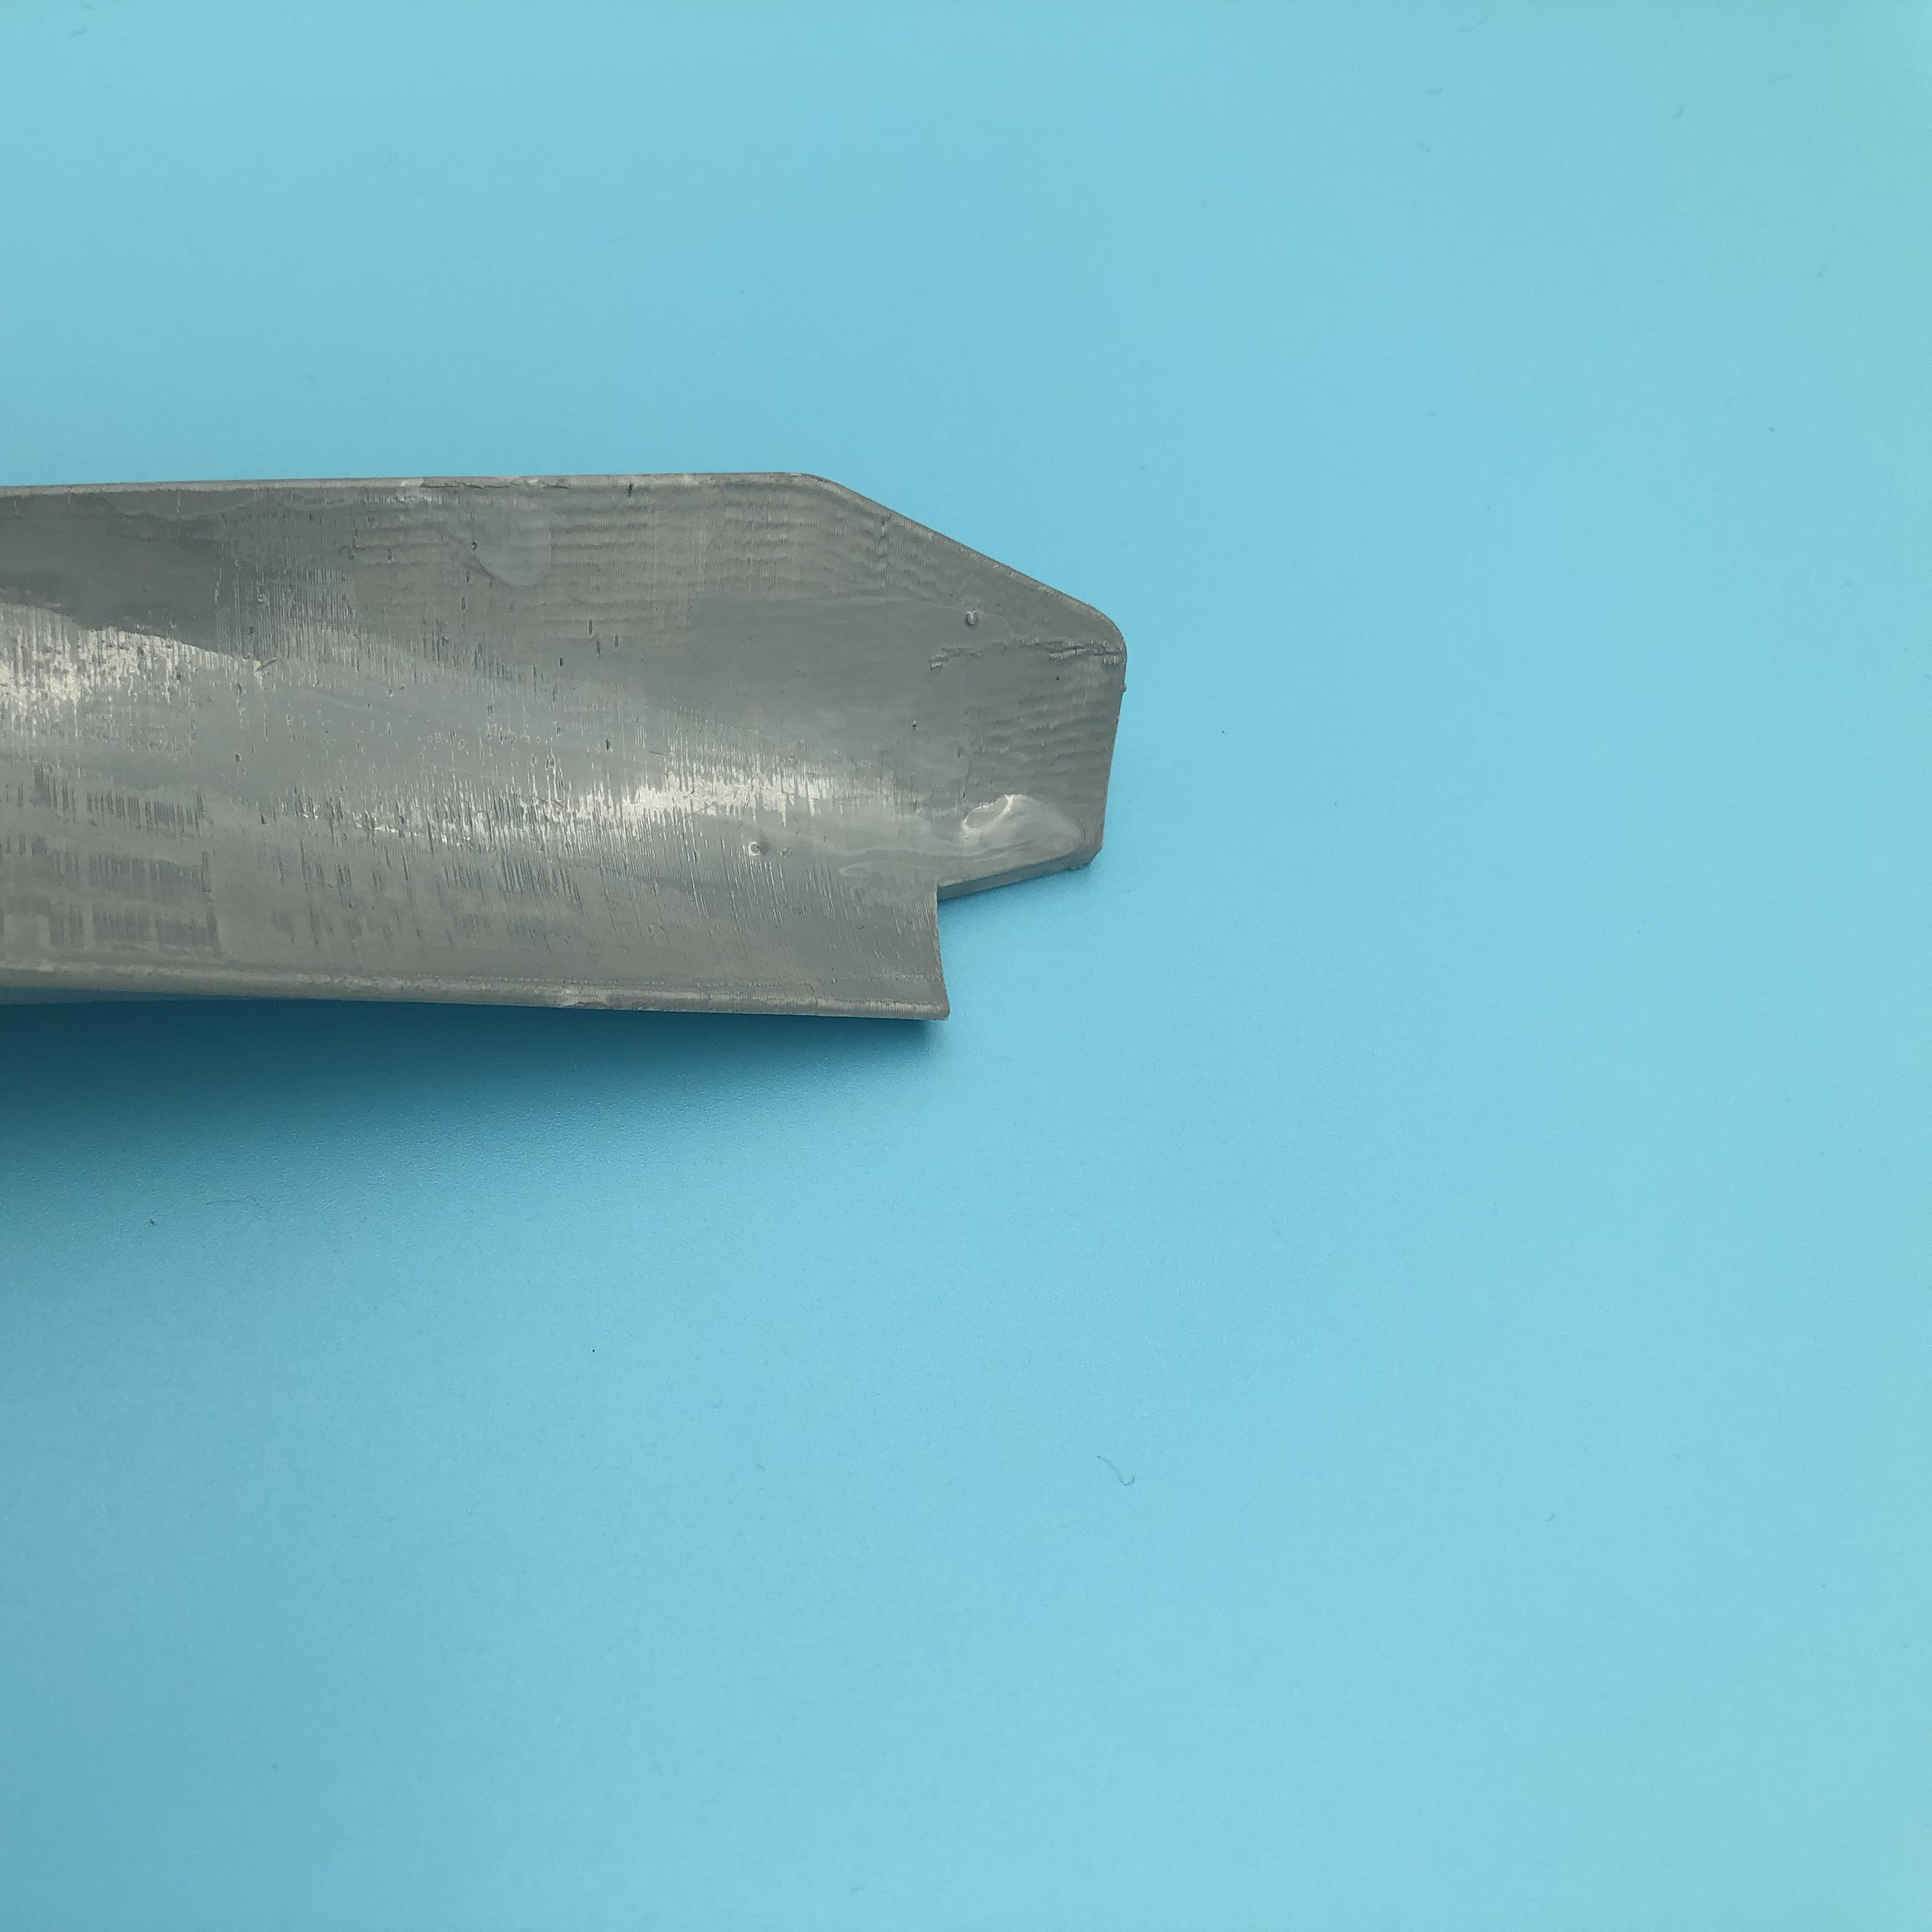fracture: (904, 844, 1113, 1035)
